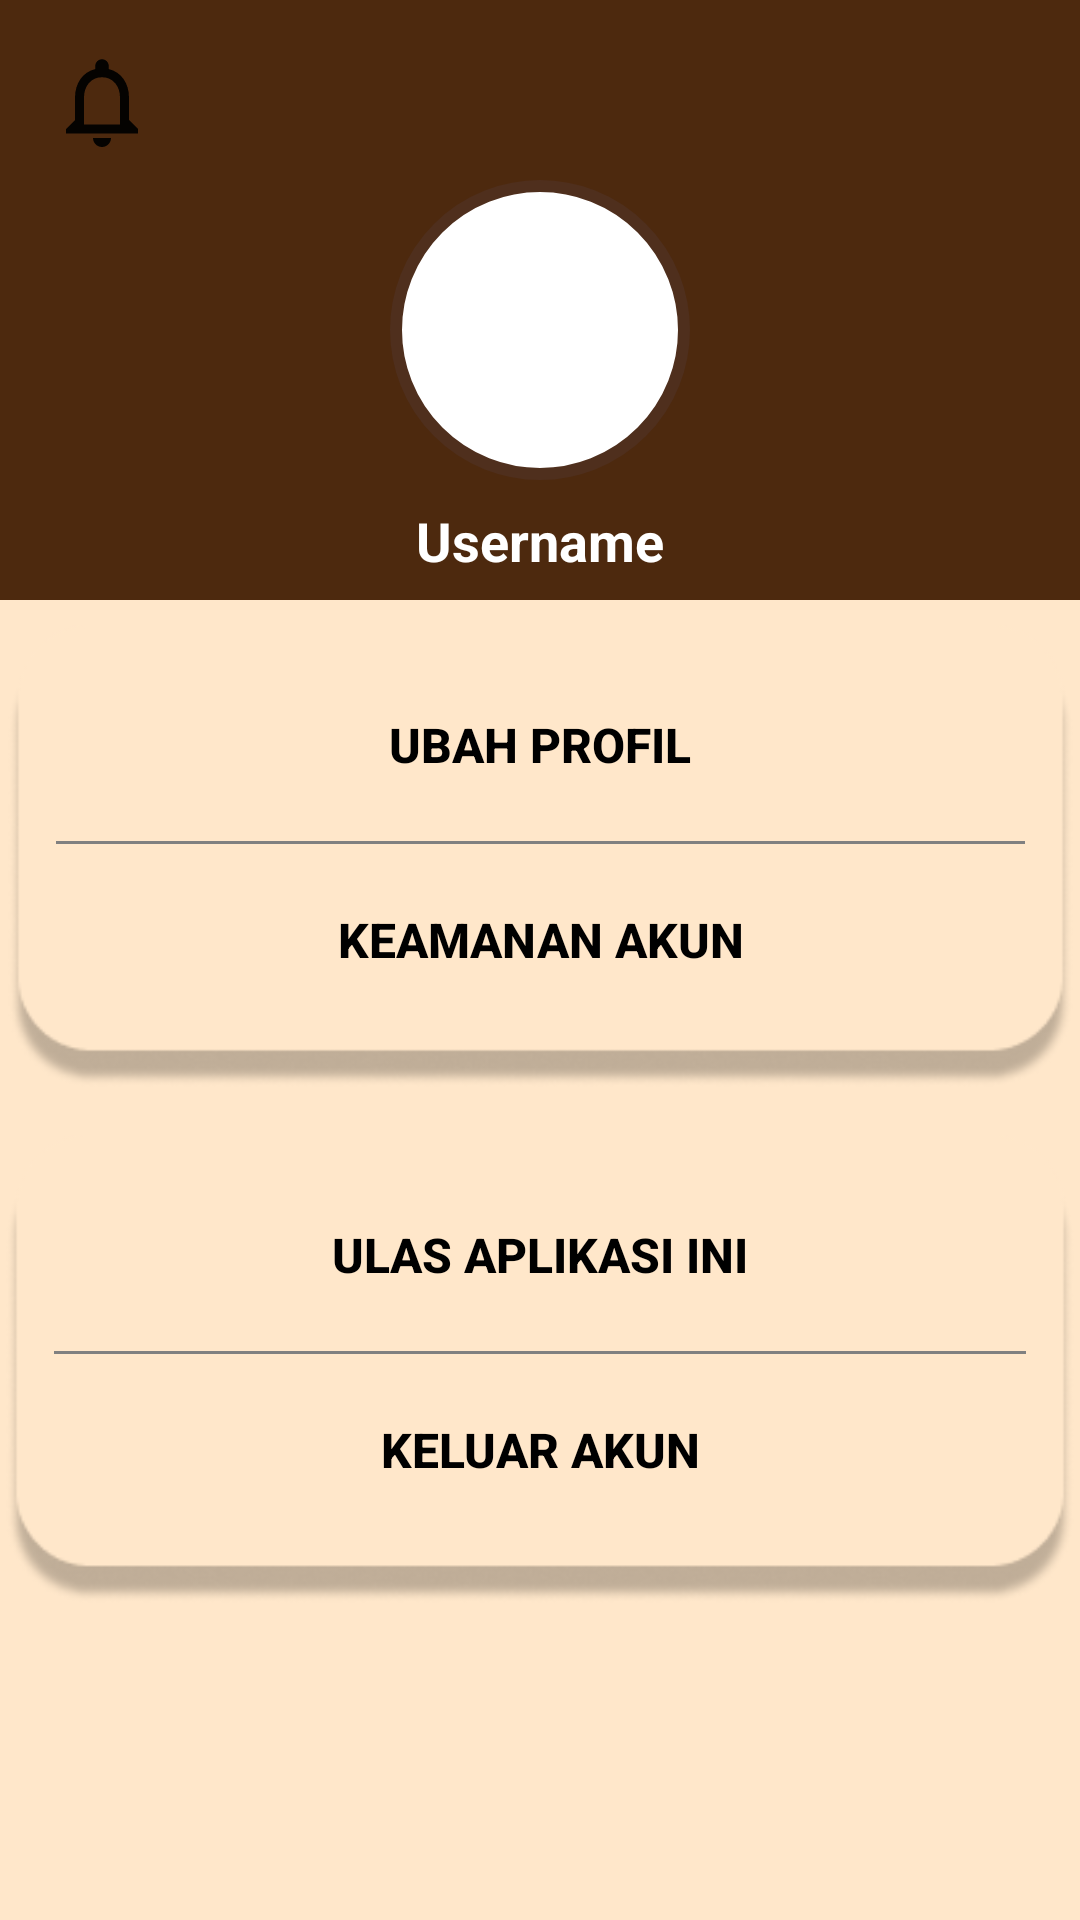

Named icons in this screenshot (1080x1920) and their bounding boxes, box=[x1, y1, x2, y2]:
Notification Icon: box=[66, 59, 138, 147]
